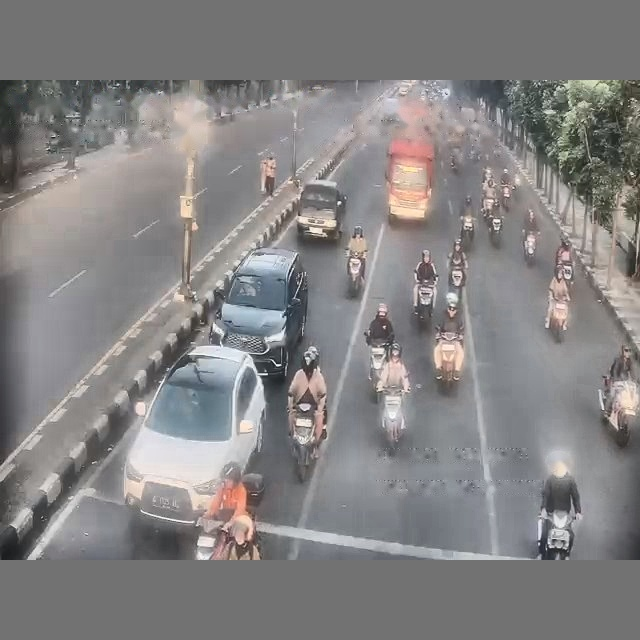Mobil: (124, 345, 265, 527), (209, 247, 307, 381), (296, 179, 346, 241), (398, 86, 409, 97)
Motor: (598, 379, 639, 446), (291, 403, 318, 482), (378, 386, 406, 451), (538, 510, 573, 559), (196, 517, 233, 559), (436, 332, 460, 390), (369, 339, 387, 396), (549, 299, 568, 342), (417, 280, 434, 324), (347, 252, 363, 297), (448, 260, 464, 299), (488, 212, 503, 247), (460, 215, 474, 251), (556, 260, 573, 287), (523, 232, 536, 265), (501, 184, 510, 211)
